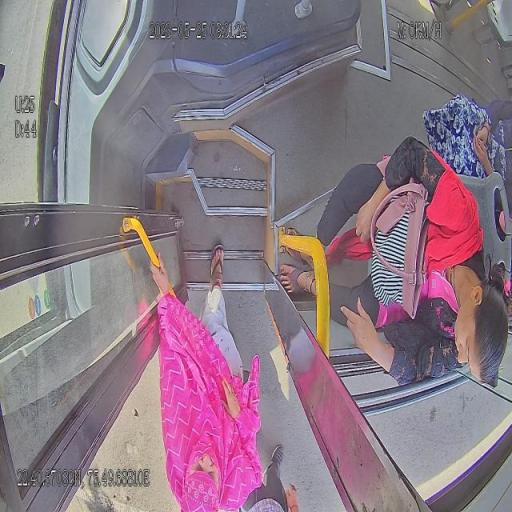persona: (278, 135, 508, 390), (148, 243, 262, 512), (422, 92, 512, 223), (238, 439, 304, 512)
